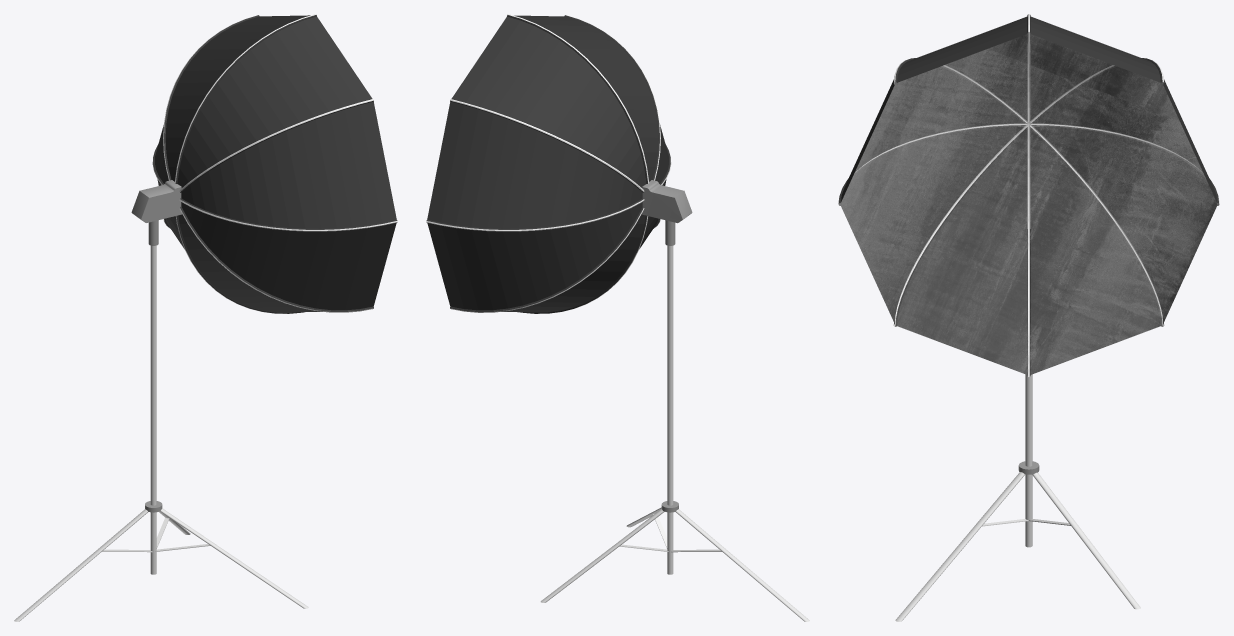
The model's file is LightSmall.glb.
The picture shows the model from 3 angles, left to right: view 1: azimuth 30°, elevation 25°; view 2: azimuth 150°, elevation 25°; view 3: azimuth 270°, elevation 25°; orthographic projection. The views are drawn at different scales.
Visible parts, largest first — view 1: Shade, Stand, Console; view 2: Shade, Stand, Console; view 3: Shade, Stand.
Boxes of the visible parts, bbox=[...] form: Shade: bbox=[152, 14, 397, 313]; Stand: bbox=[14, 245, 308, 621]; Console: bbox=[131, 180, 181, 222]; Shade: bbox=[426, 14, 671, 313]; Stand: bbox=[540, 245, 809, 621]; Console: bbox=[642, 180, 692, 223]; Shade: bbox=[838, 14, 1219, 376]; Stand: bbox=[895, 374, 1140, 621].
Bounding box in the file's own units: 0.9383 × 1.6 × 0.8799.
6 materials, 1 textured.
